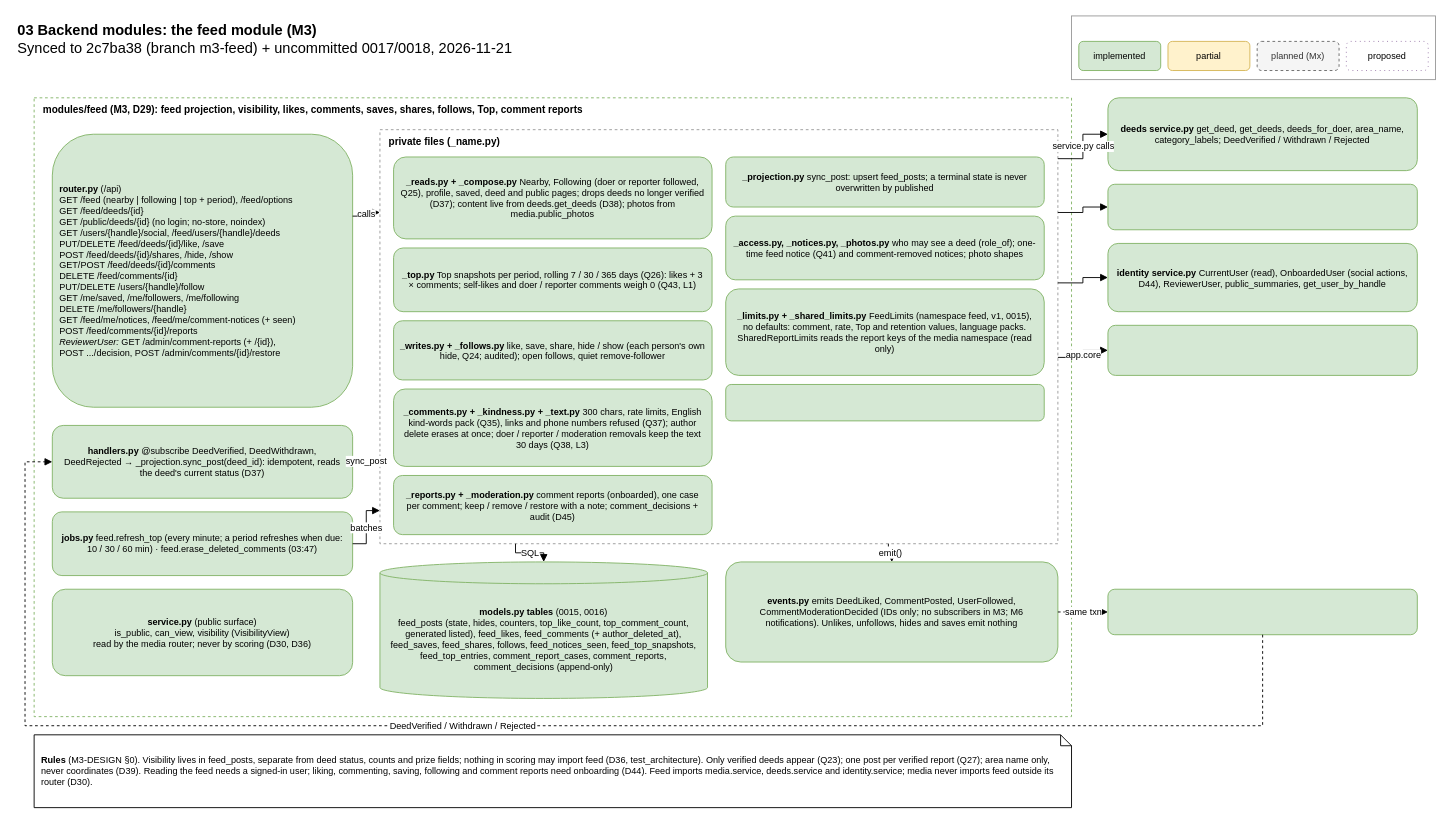
The diagram is 1451 pixels wide and 824 high, and some of its shapes have lost their labels. The box of each missing label's shape, as (x1, y1, x2, y2) in pixels:
_cursor.py opaque keyset cursors (D40): (725, 384, 1044, 421)
core events (outbox, run_handler), ratelimit, audit, runtime_config, db: (1107, 324, 1417, 375)
Legend: (1071, 15, 1436, 80)
media service.py public_photos, sign_variants: (1107, 183, 1417, 230)
Outbox deeds events in; feed events out (same transaction): (1107, 588, 1417, 635)
